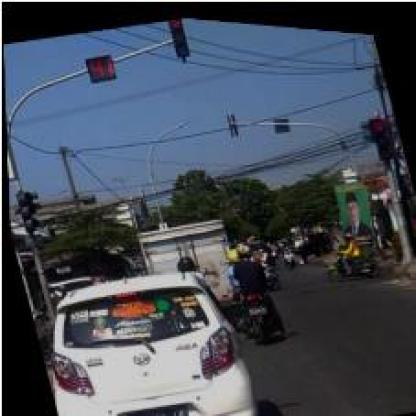red: (368, 105, 394, 155), (167, 14, 189, 56)
